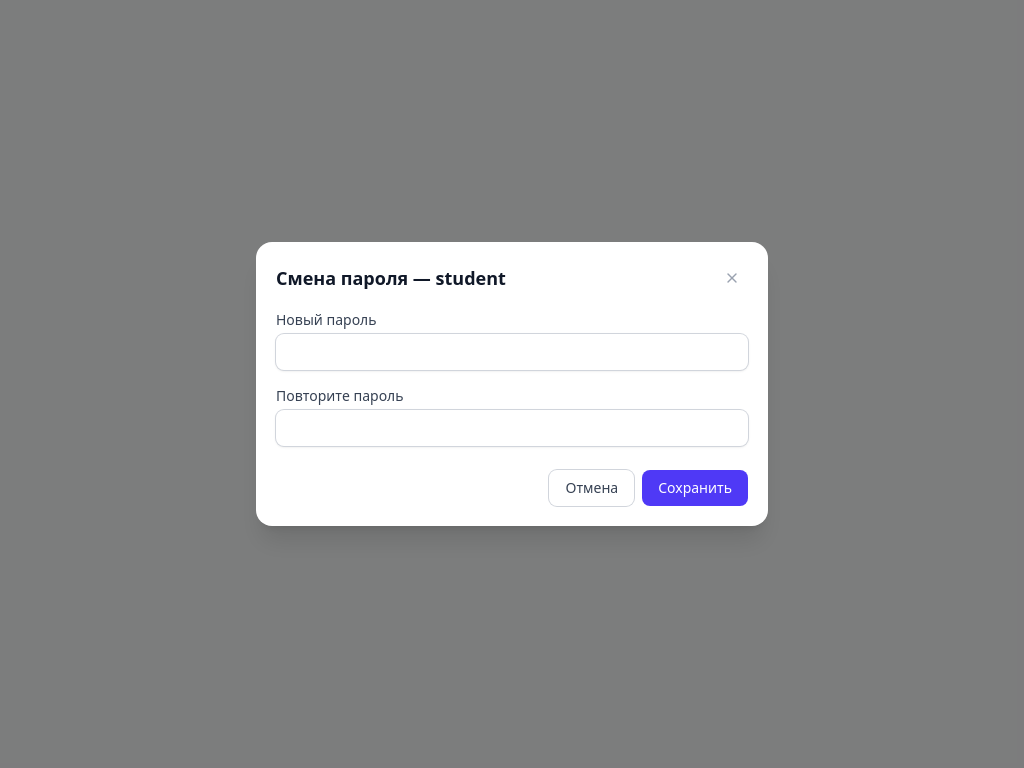
ChangePasswordModal › rejects mismatched passwords
Type "password123" into the password field labelled "Новый пароль" at (512, 352), box [276,334,748,370]
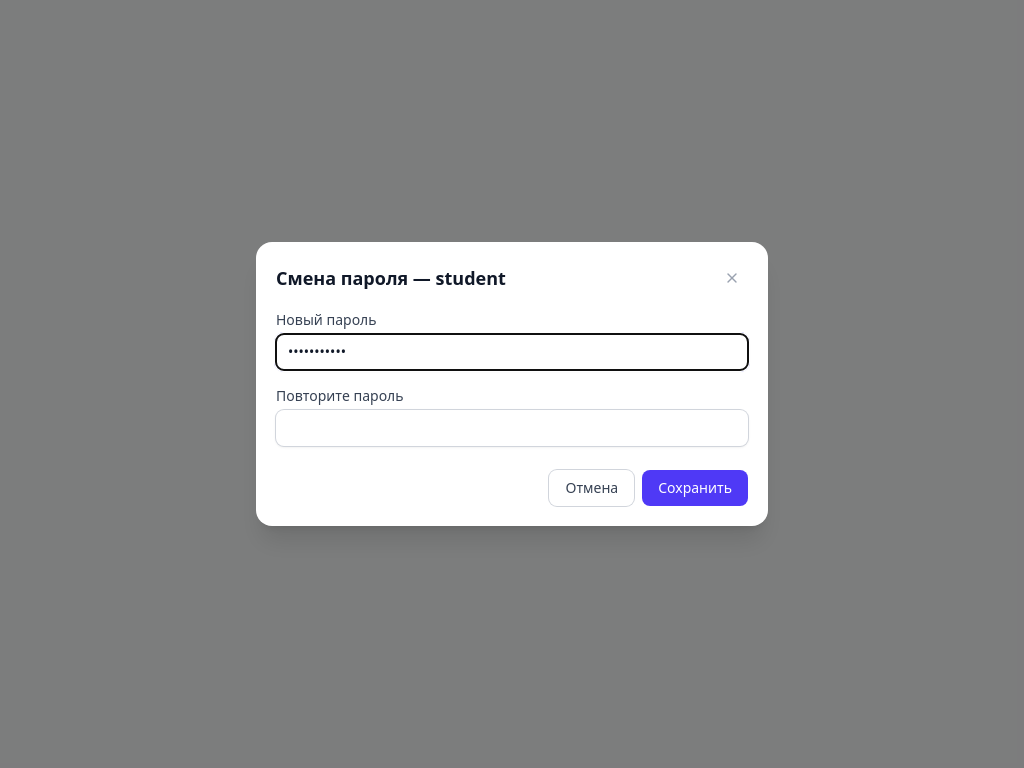
Type "password124" into the password field labelled "Повторите пароль" at (512, 428), box [276,410,748,446]
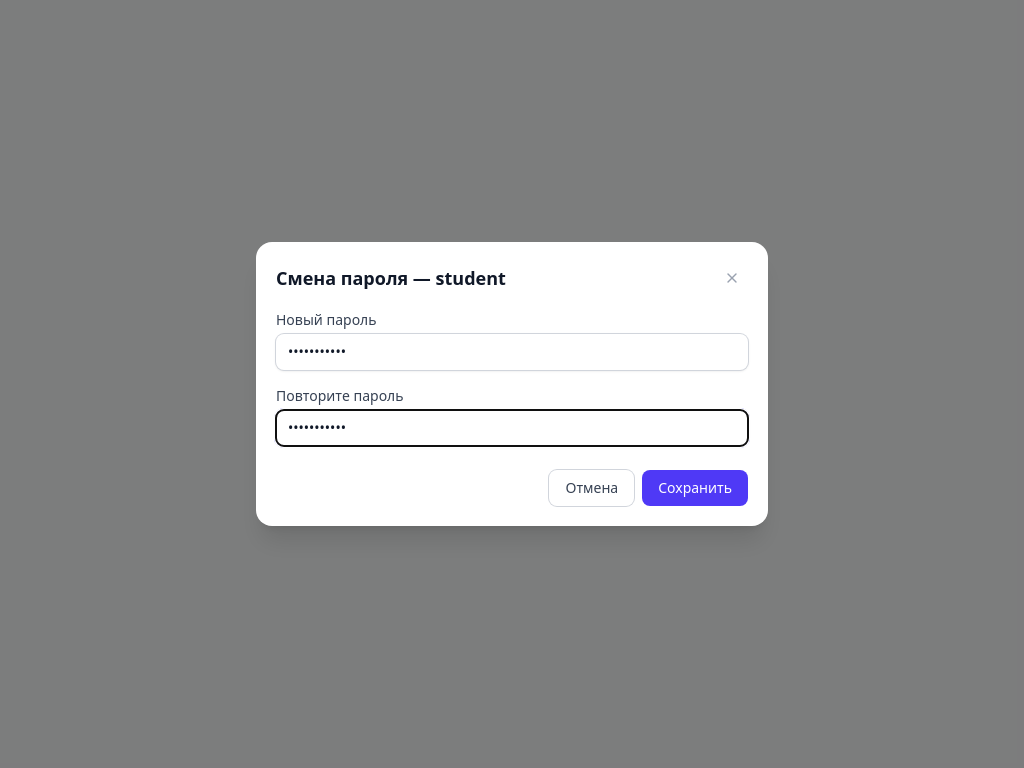
Click the button "Сохранить" at (695, 488), box [642,470,748,506]
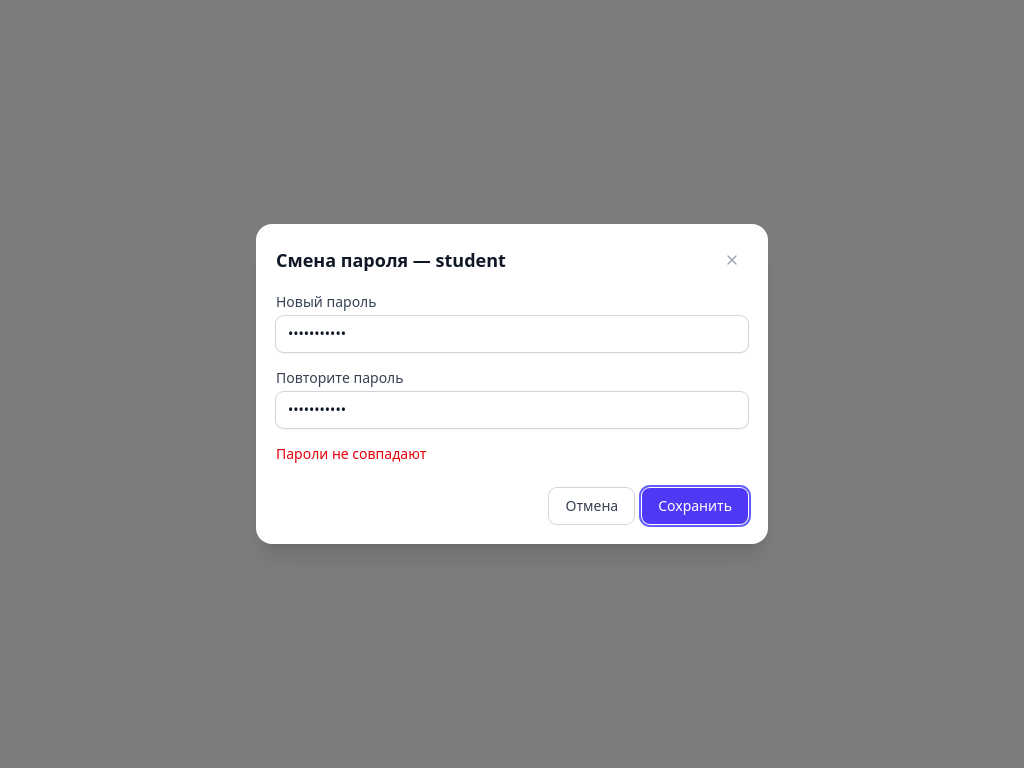
Expected: the text "Пароли не совпадают" is shown, [276,444,426,463]
